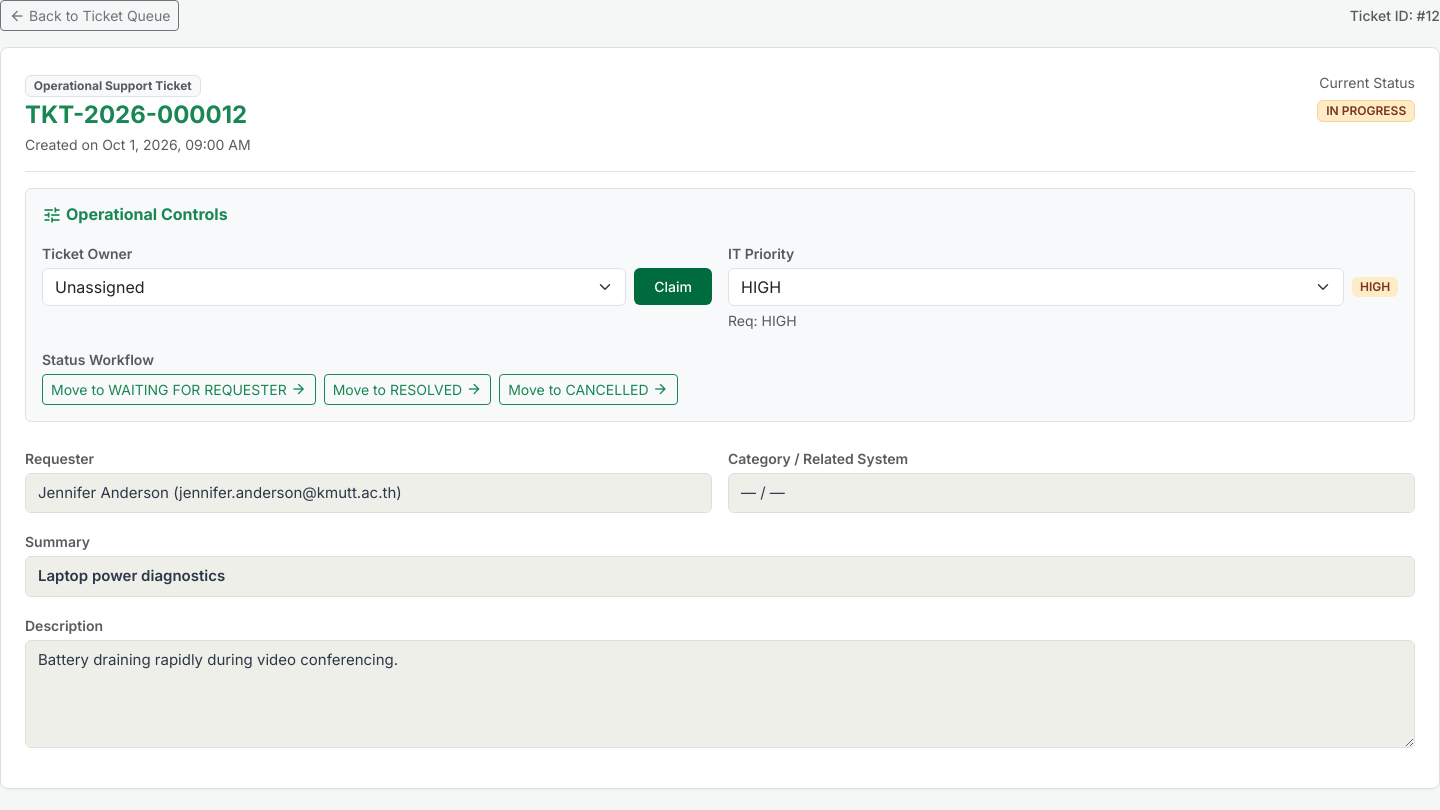
Lab 4 Ticket Workflow & Resolution Gate UI Suite (client/tests/lab-04/TicketWorkflow.test.tsx) › StaffTicketDetail Workflow Integration › opens ResolutionGateModal when clicking Move to RESOLVED
Note: Click "Move to RESOLVED"
Click the button with test id "status-transition-RESOLVED": (407, 390) left=324, top=374, right=491, bottom=405
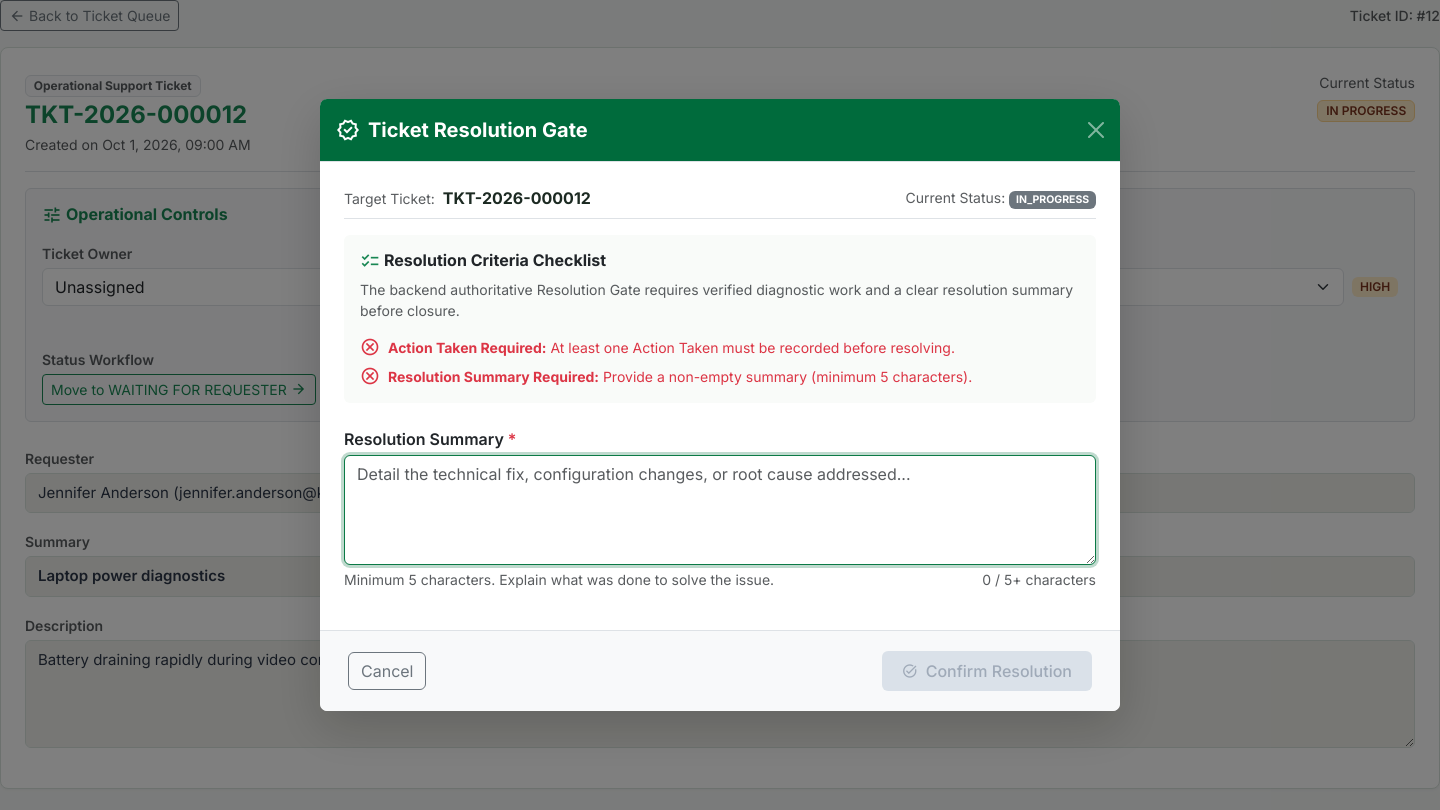
Expected: the heading "Ticket Resolution Gate" is shown, left=368, top=115, right=588, bottom=145
